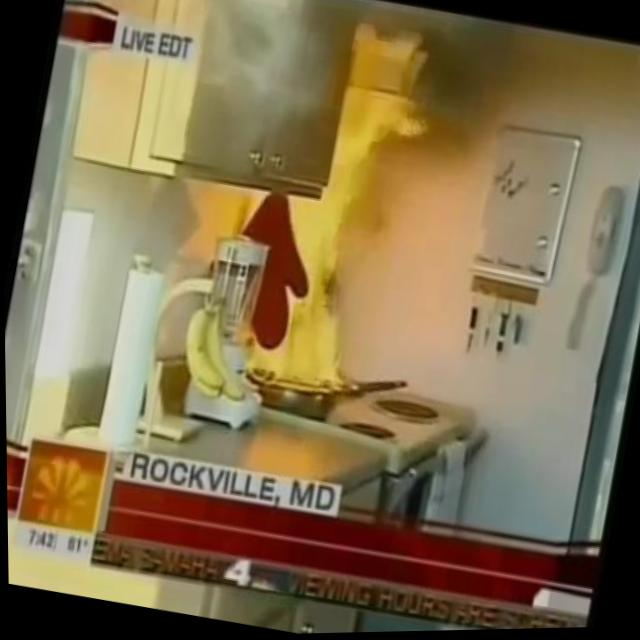fire: (243, 125, 386, 404)
